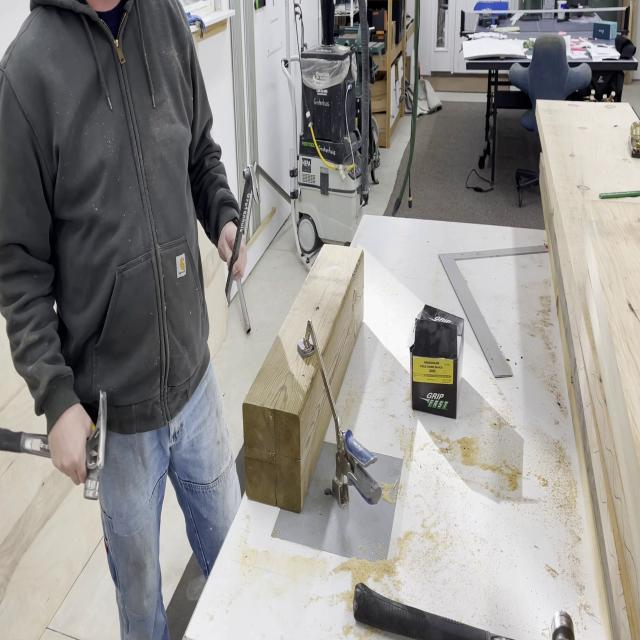hammer: (0, 389, 107, 502)
